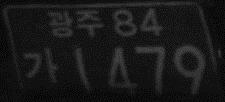1: (72, 46, 95, 94)
4: (107, 45, 139, 96), (139, 7, 163, 37)
7: (135, 44, 167, 97)
8: (112, 8, 137, 38)
9: (173, 44, 205, 100)
가: (23, 47, 60, 86)
광주_O: (46, 9, 104, 38)
